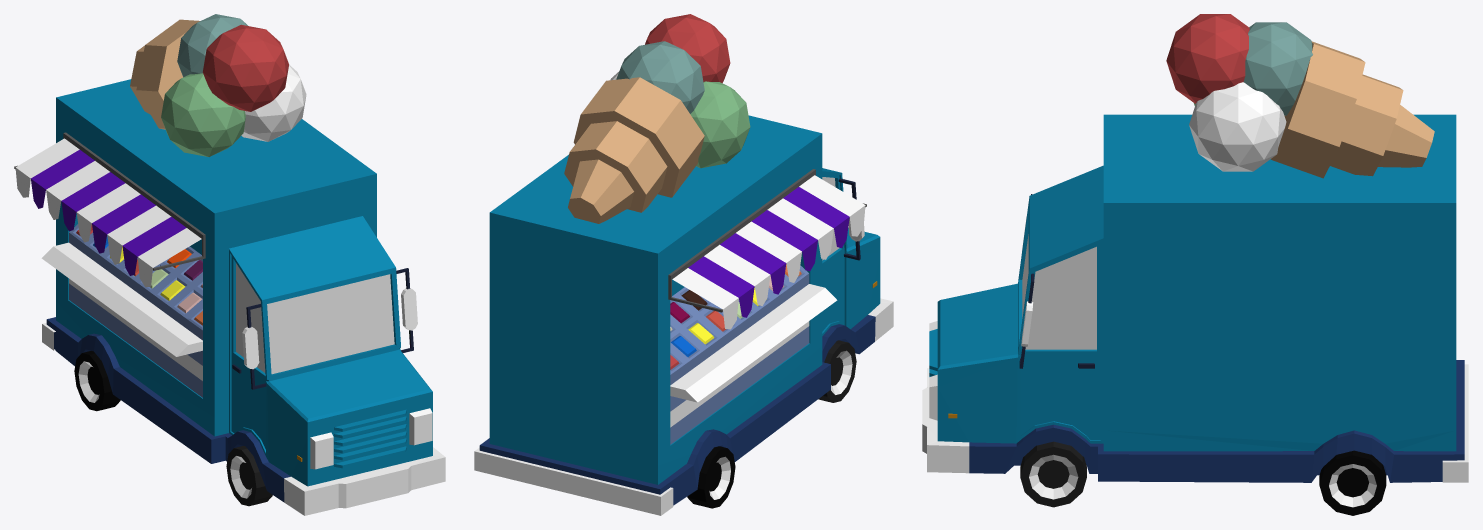
File: icecream_truck.glb
3 views of the same model, side by side, from view 1: azimuth 30°, elevation 25°; view 2: azimuth 150°, elevation 25°; view 3: azimuth 270°, elevation 25° (orthographic). The views are drawn at different scales.
Visible parts, largest first — view 1: Cube.004, BIG ICE CREAM, Ruote Anteriori, Ruote Posteriori; view 2: Cube.004, BIG ICE CREAM, Ruote Posteriori, Ruote Anteriori; view 3: Cube.004, BIG ICE CREAM, Ruote Anteriori, Ruote Posteriori.
Boxes of the visible parts, x1,y1,x2,y2 form: Cube.004: (14,79,445,515); BIG ICE CREAM: (130,14,306,156); Ruote Anteriori: (226,446,272,506); Ruote Posteriori: (74,351,120,411); Cube.004: (474,115,893,515); BIG ICE CREAM: (564,14,750,223); Ruote Posteriori: (687,446,735,508); Ruote Anteriori: (818,340,856,402); Cube.004: (922,114,1468,482); BIG ICE CREAM: (1166,14,1434,178); Ruote Anteriori: (1020,441,1086,507); Ruote Posteriori: (1319,450,1386,515).
Bounding box in the file's own units: 3.08 × 5.22 × 5.75.
Materials: 2 (1 with a texture image).
